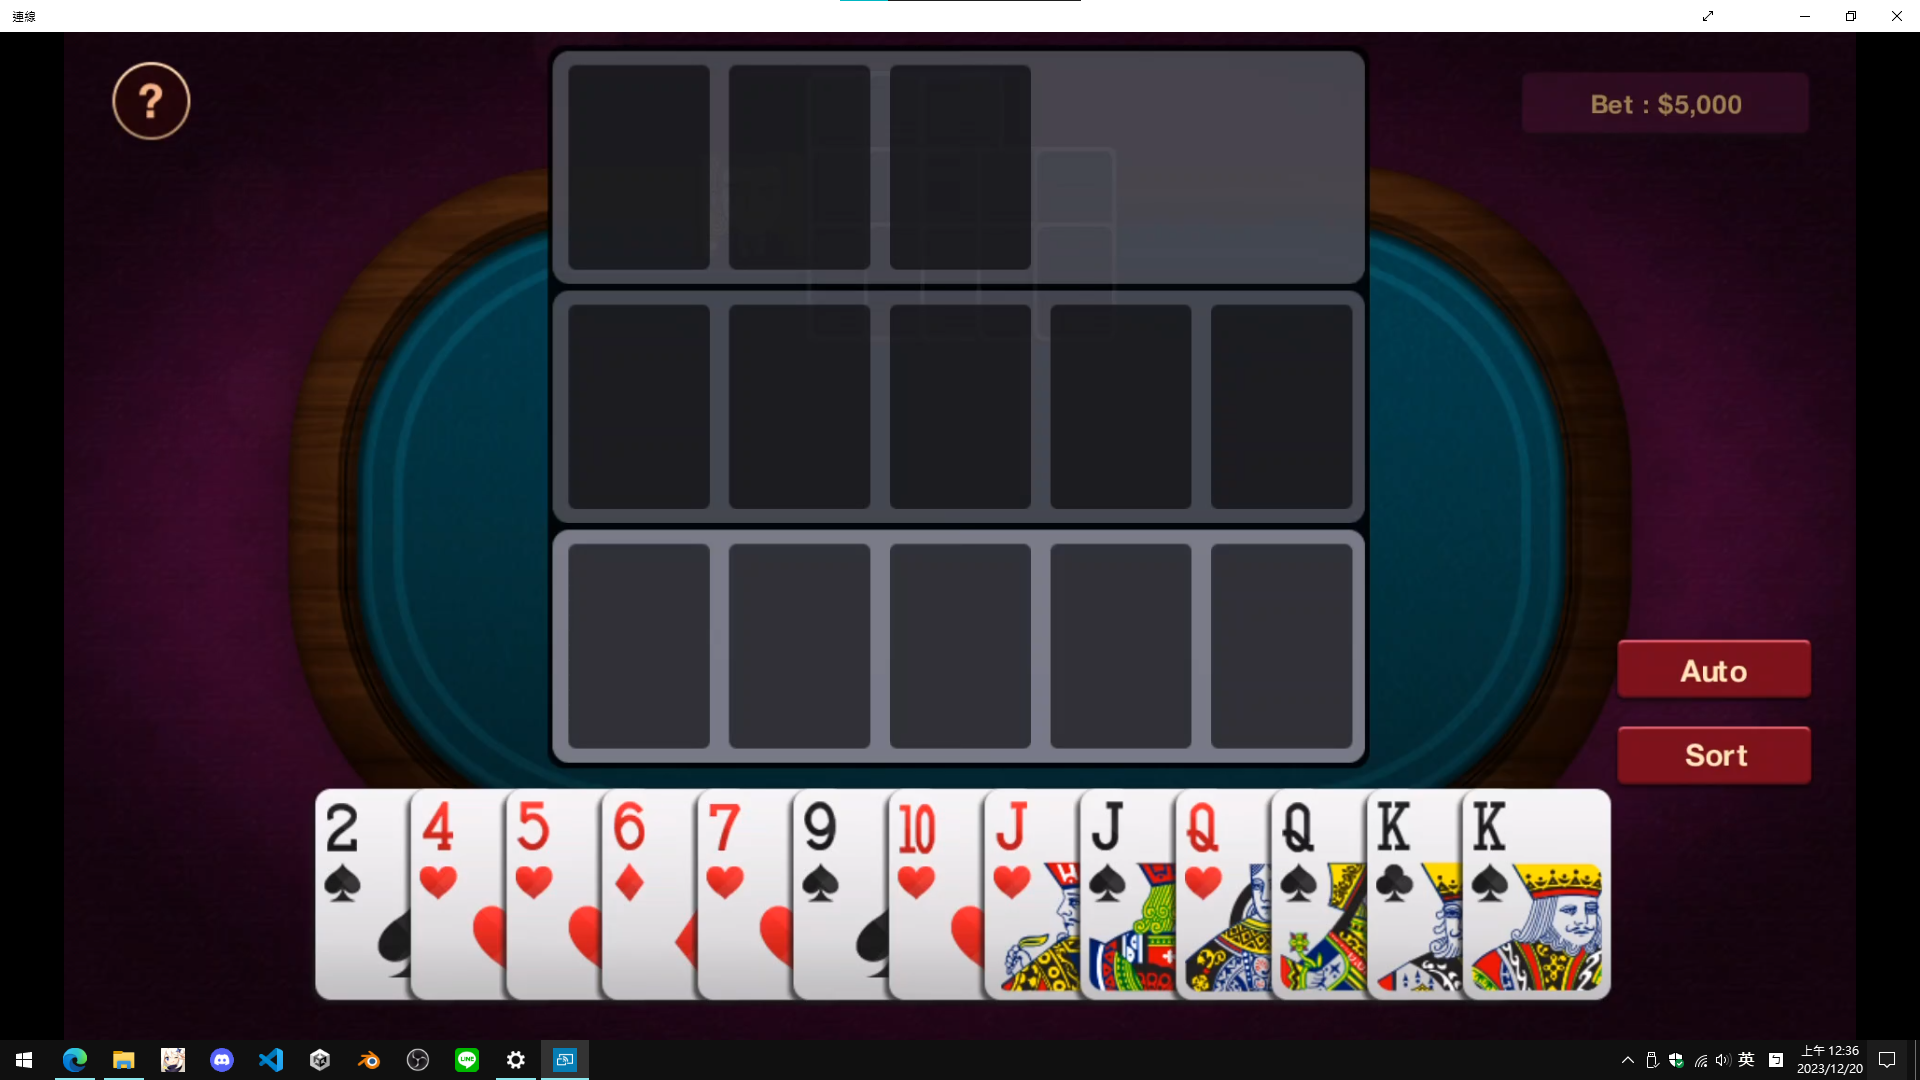10H: (895, 795, 939, 907)
2S: (320, 795, 364, 909)
4H: (417, 794, 465, 903)
5H: (510, 796, 560, 905)
6D: (609, 798, 651, 907)
7H: (704, 800, 748, 906)
9S: (798, 798, 844, 909)
JH: (993, 795, 1035, 903)
JS: (1088, 798, 1131, 907)
KC: (1373, 798, 1415, 906)
KS: (1468, 796, 1513, 907)
QH: (1182, 796, 1228, 907)
QS: (1278, 798, 1324, 906)
